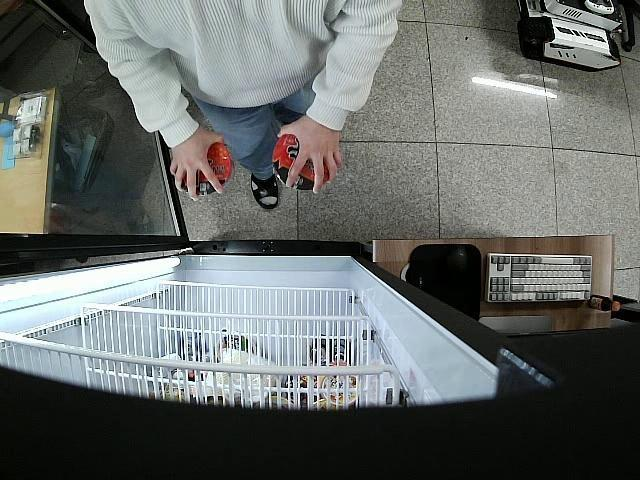01_ShinRamen_L: (272, 135, 330, 191), (180, 143, 233, 197)
